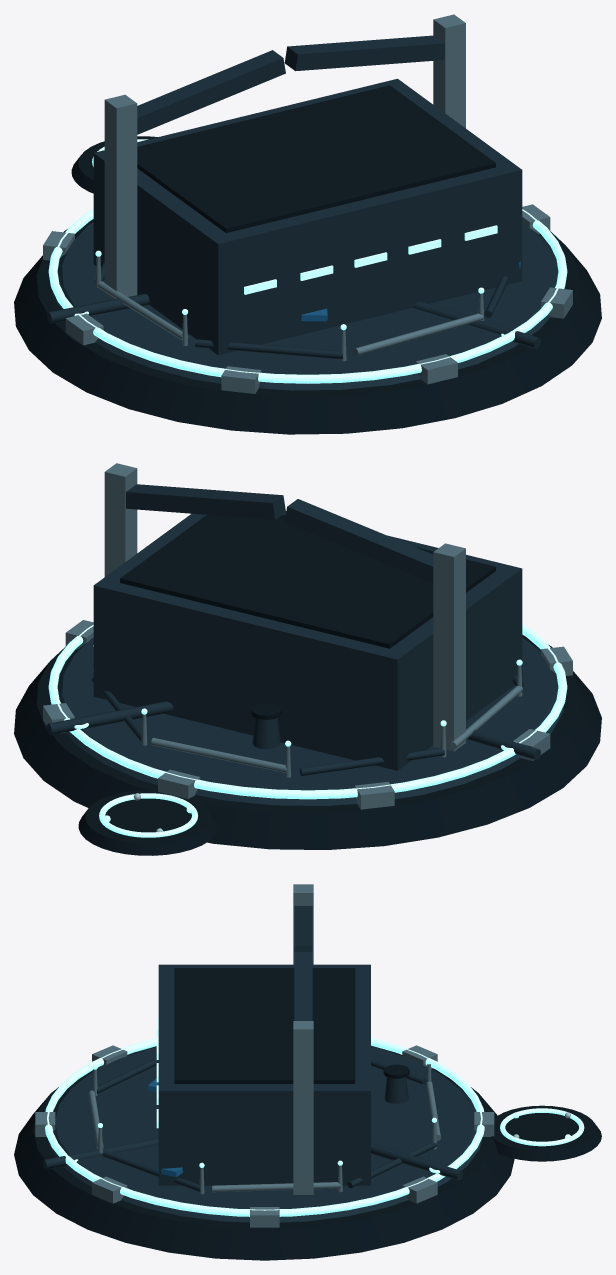
Rendered from roboticsFactory-stage1.glb.
3 views of the same model, one above another, from view 1: azimuth 30°, elevation 25°; view 2: azimuth 150°, elevation 25°; view 3: azimuth 270°, elevation 25° (orthographic). The views are drawn at different scales.
Visible parts, largest first — view 1: assembly-hall, armored-foundation, factory-roof, upper-deck, crane-tower (×2), crane-arm (×2), perimeter-light, service-catwalk-2, service-catwalk-1, utility-conduit-0, utility-conduit-1, buttress-3 (+6 smaller); view 2: assembly-hall, armored-foundation, factory-roof, upper-deck, crane-tower (×2), crane-arm (×2), landing-pad, perimeter-light, utility-conduit-2, landing-guidance-light, service-catwalk-5, service-catwalk-4 (+7 smaller); view 3: assembly-hall, upper-deck, armored-foundation, factory-roof, perimeter-light, crane-tower (×2), landing-pad, crane-arm (×2), utility-conduit-2, landing-guidance-light, utility-conduit-0, service-catwalk-7 (+6 smaller).
Part boxes in pixels (<box>): assembly-hall: <box>93,78,522,355</box>; armored-foundation: <box>14,219,601,434</box>; factory-roof: <box>137,85,495,232</box>; upper-deck: <box>52,222,565,390</box>; crane-tower (×2): <box>104,14,465,299</box>; crane-arm (×2): <box>137,35,444,134</box>; perimeter-light: <box>48,208,567,383</box>; service-catwalk-2: <box>195,339,342,359</box>; service-catwalk-1: <box>354,313,483,355</box>; utility-conduit-0: <box>413,301,540,348</box>; utility-conduit-1: <box>47,293,149,323</box>; buttress-3: <box>221,366,261,393</box>; assembly-hall: <box>93,511,522,770</box>; armored-foundation: <box>14,634,601,849</box>; factory-roof: <box>120,514,495,648</box>; upper-deck: <box>50,637,563,805</box>; crane-tower (×2): <box>104,463,465,751</box>; crane-arm (×2): <box>126,484,433,583</box>; landing-pad: <box>78,790,218,855</box>; perimeter-light: <box>48,624,567,799</box>; utility-conduit-2: <box>47,701,173,734</box>; landing-guidance-light: <box>99,793,197,837</box>; service-catwalk-5: <box>151,737,286,772</box>; service-catwalk-4: <box>299,748,444,775</box>; assembly-hall: <box>158,964,370,1185</box>; upper-deck: <box>47,1046,482,1222</box>; armored-foundation: <box>14,1045,514,1260</box>; factory-roof: <box>174,968,355,1083</box>; perimeter-light: <box>45,1038,484,1216</box>; crane-tower (×2): <box>293,884,313,1194</box>; landing-pad: <box>491,1105,601,1161</box>; crane-arm (×2): <box>294,906,312,1020</box>; utility-conduit-2: <box>371,1143,462,1180</box>; landing-guidance-light: <box>500,1108,584,1146</box>; utility-conduit-0: <box>42,1138,158,1169</box>; service-catwalk-7: <box>212,1182,340,1192</box>.
Size of the model in its own units: 8.53 by 3.86 by 10.
